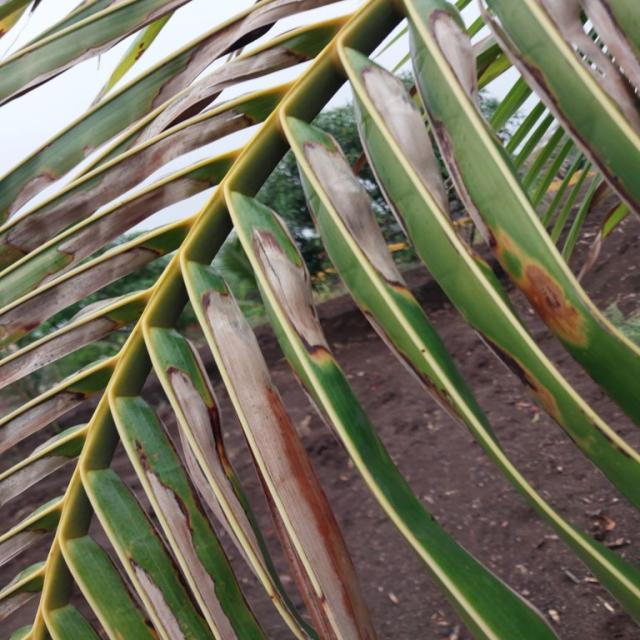gray leaf spot: (0, 0, 619, 627)
